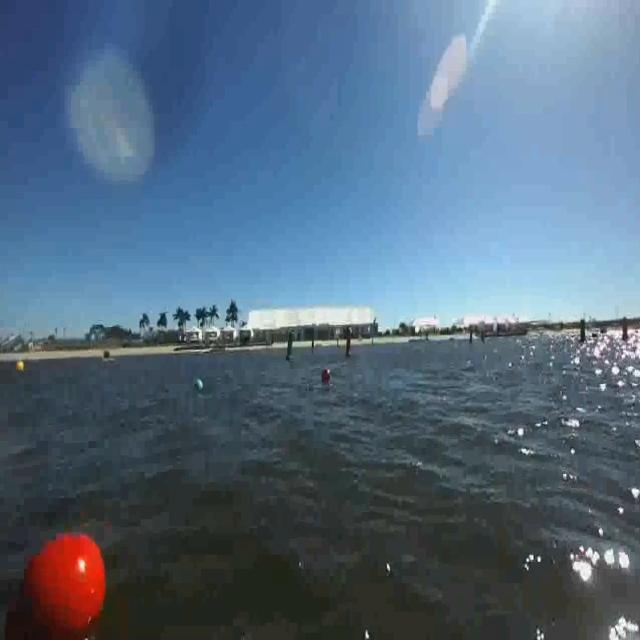red-buoy: (5, 522, 113, 638)
